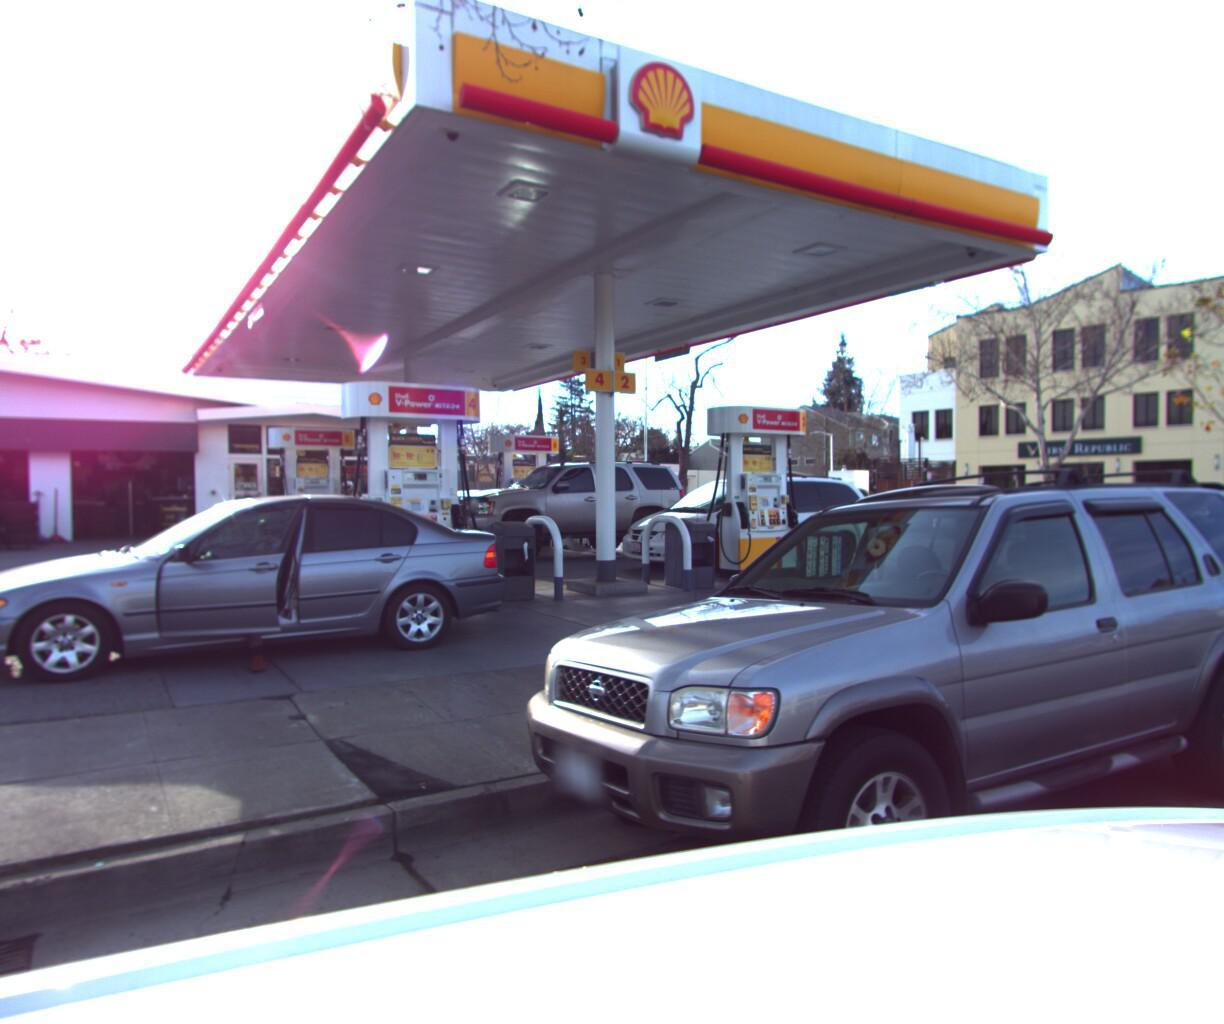car: (473, 450, 1224, 1024), (0, 494, 518, 708), (606, 462, 892, 575), (1167, 491, 1224, 734), (0, 443, 5, 661)
